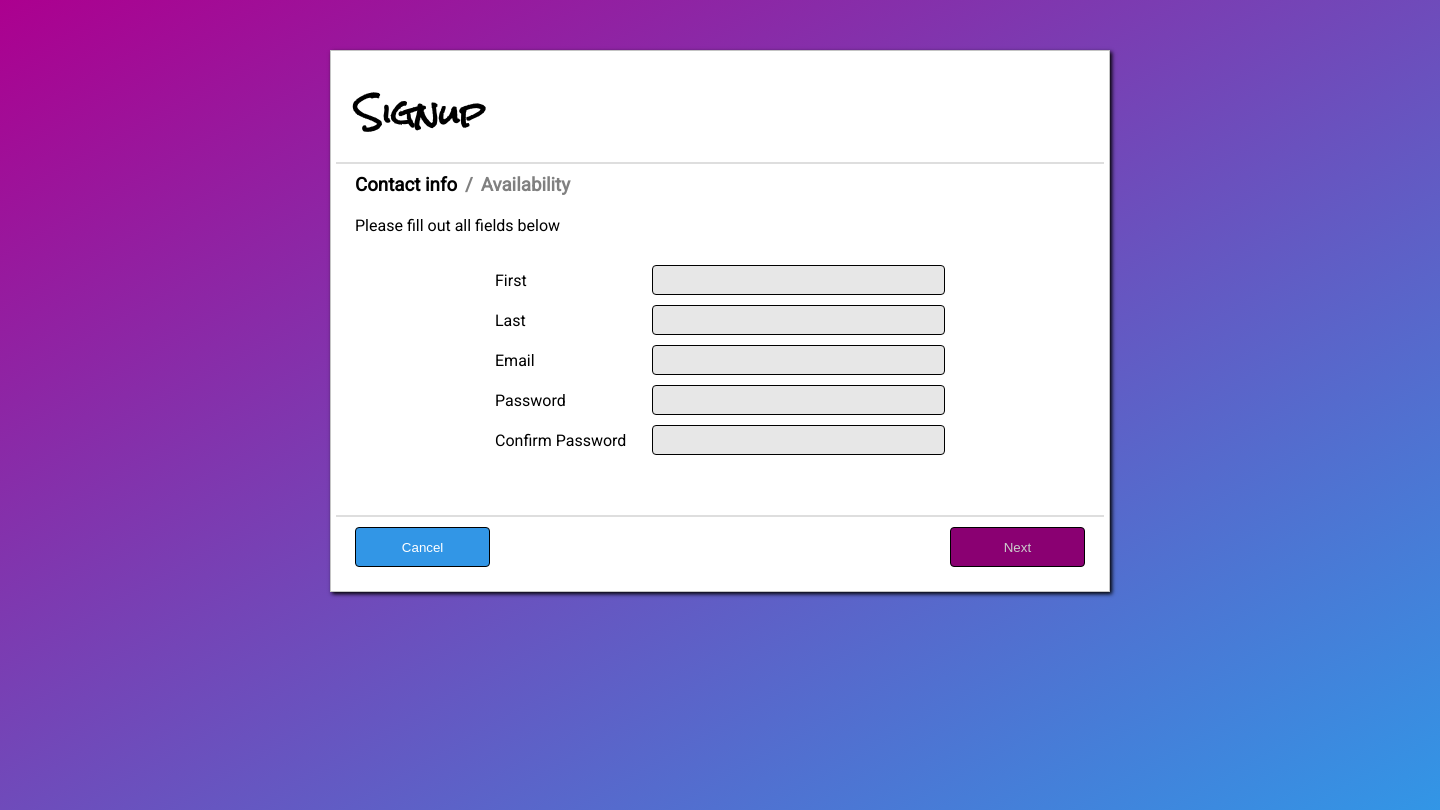
Testing contact form step › If user types in email with no @ symbol, the field is highlighted with error displayed
In the field labelled "Email": x=798, y=360 [652,345,945,375], type "invalidEmail.com"
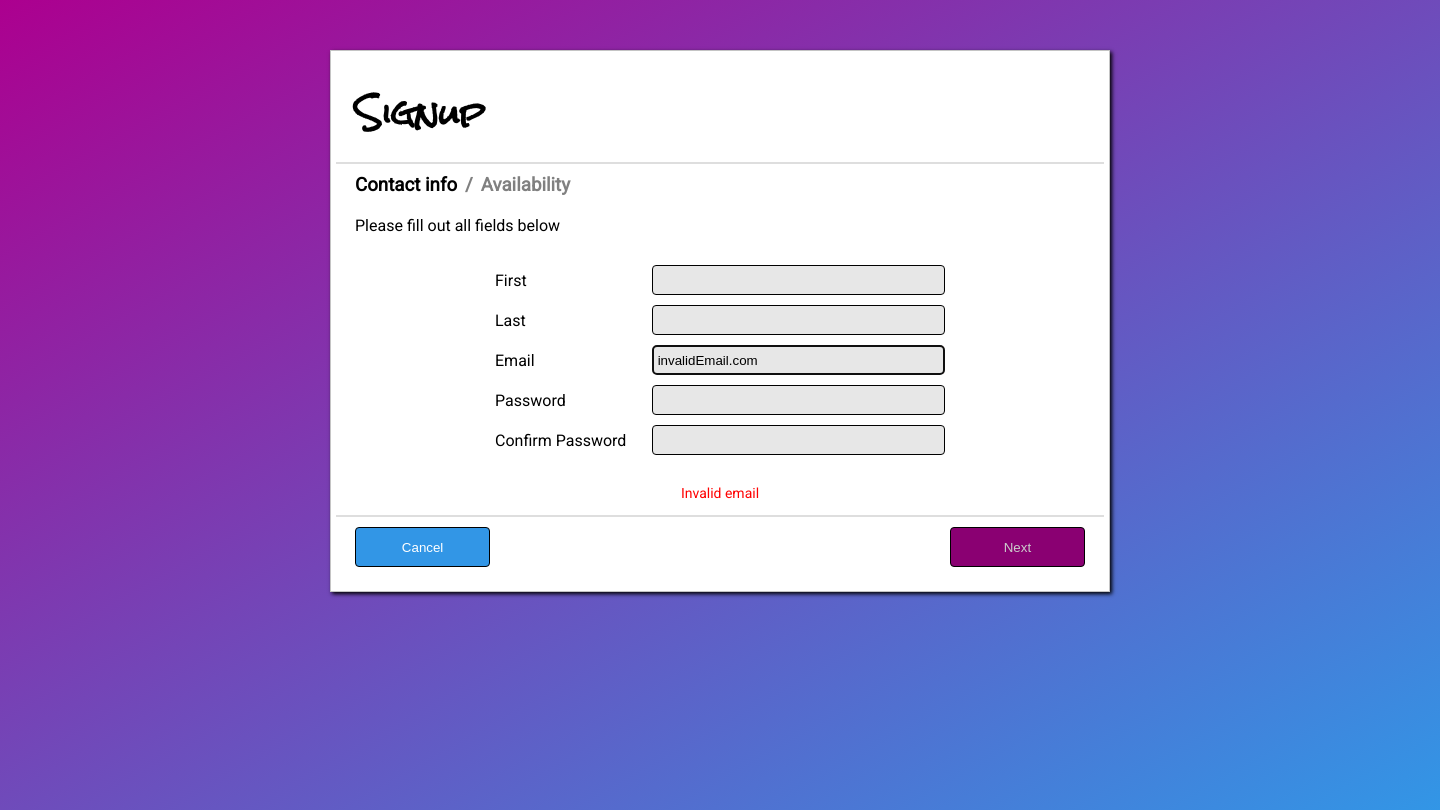
Check: the text "Invalid email" is shown, box [681,485,759,501]
